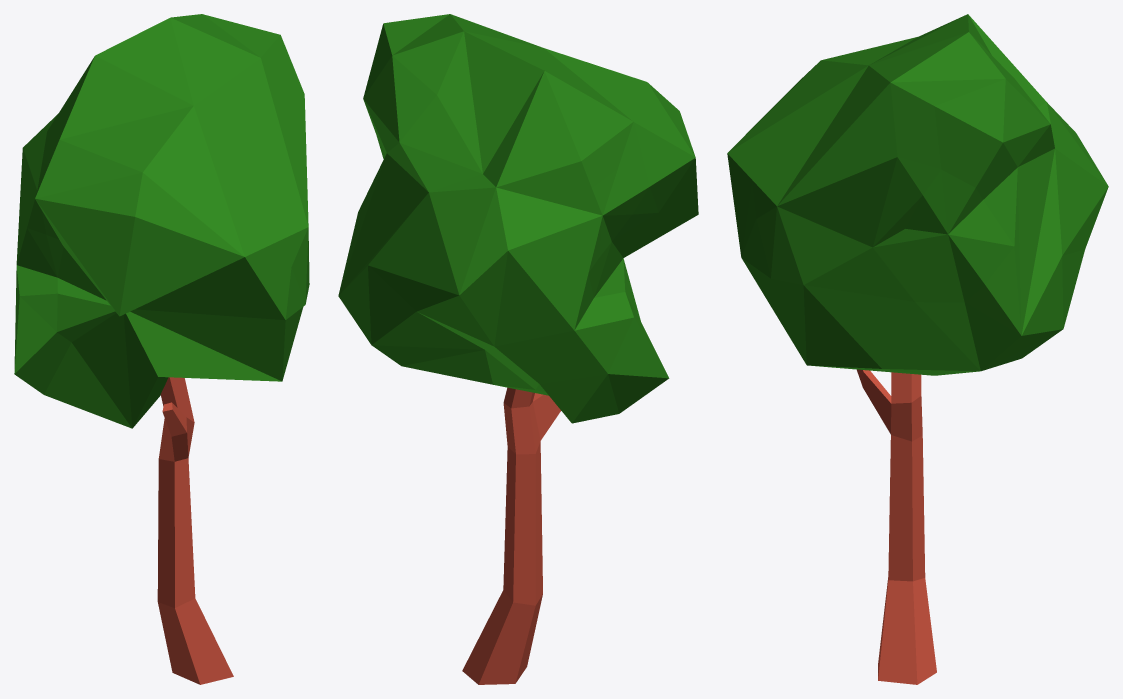
The model's file is tree_3.fbx.
The picture shows the model from 3 angles, left to right: view 1: azimuth 30°, elevation 25°; view 2: azimuth 150°, elevation 25°; view 3: azimuth 270°, elevation 25°; orthographic projection. The views are drawn at different scales.
Visible parts, largest first — view 1: Tree_3; view 2: Tree_3; view 3: Tree_3.
Part boxes in pixels (x1=…): Tree_3: x1=14, y1=14, x2=309, y2=684; Tree_3: x1=338, y1=14, x2=698, y2=684; Tree_3: x1=727, y1=14, x2=1108, y2=684.
Size of the model in its own units: 4.73 by 10.32 by 5.58.
